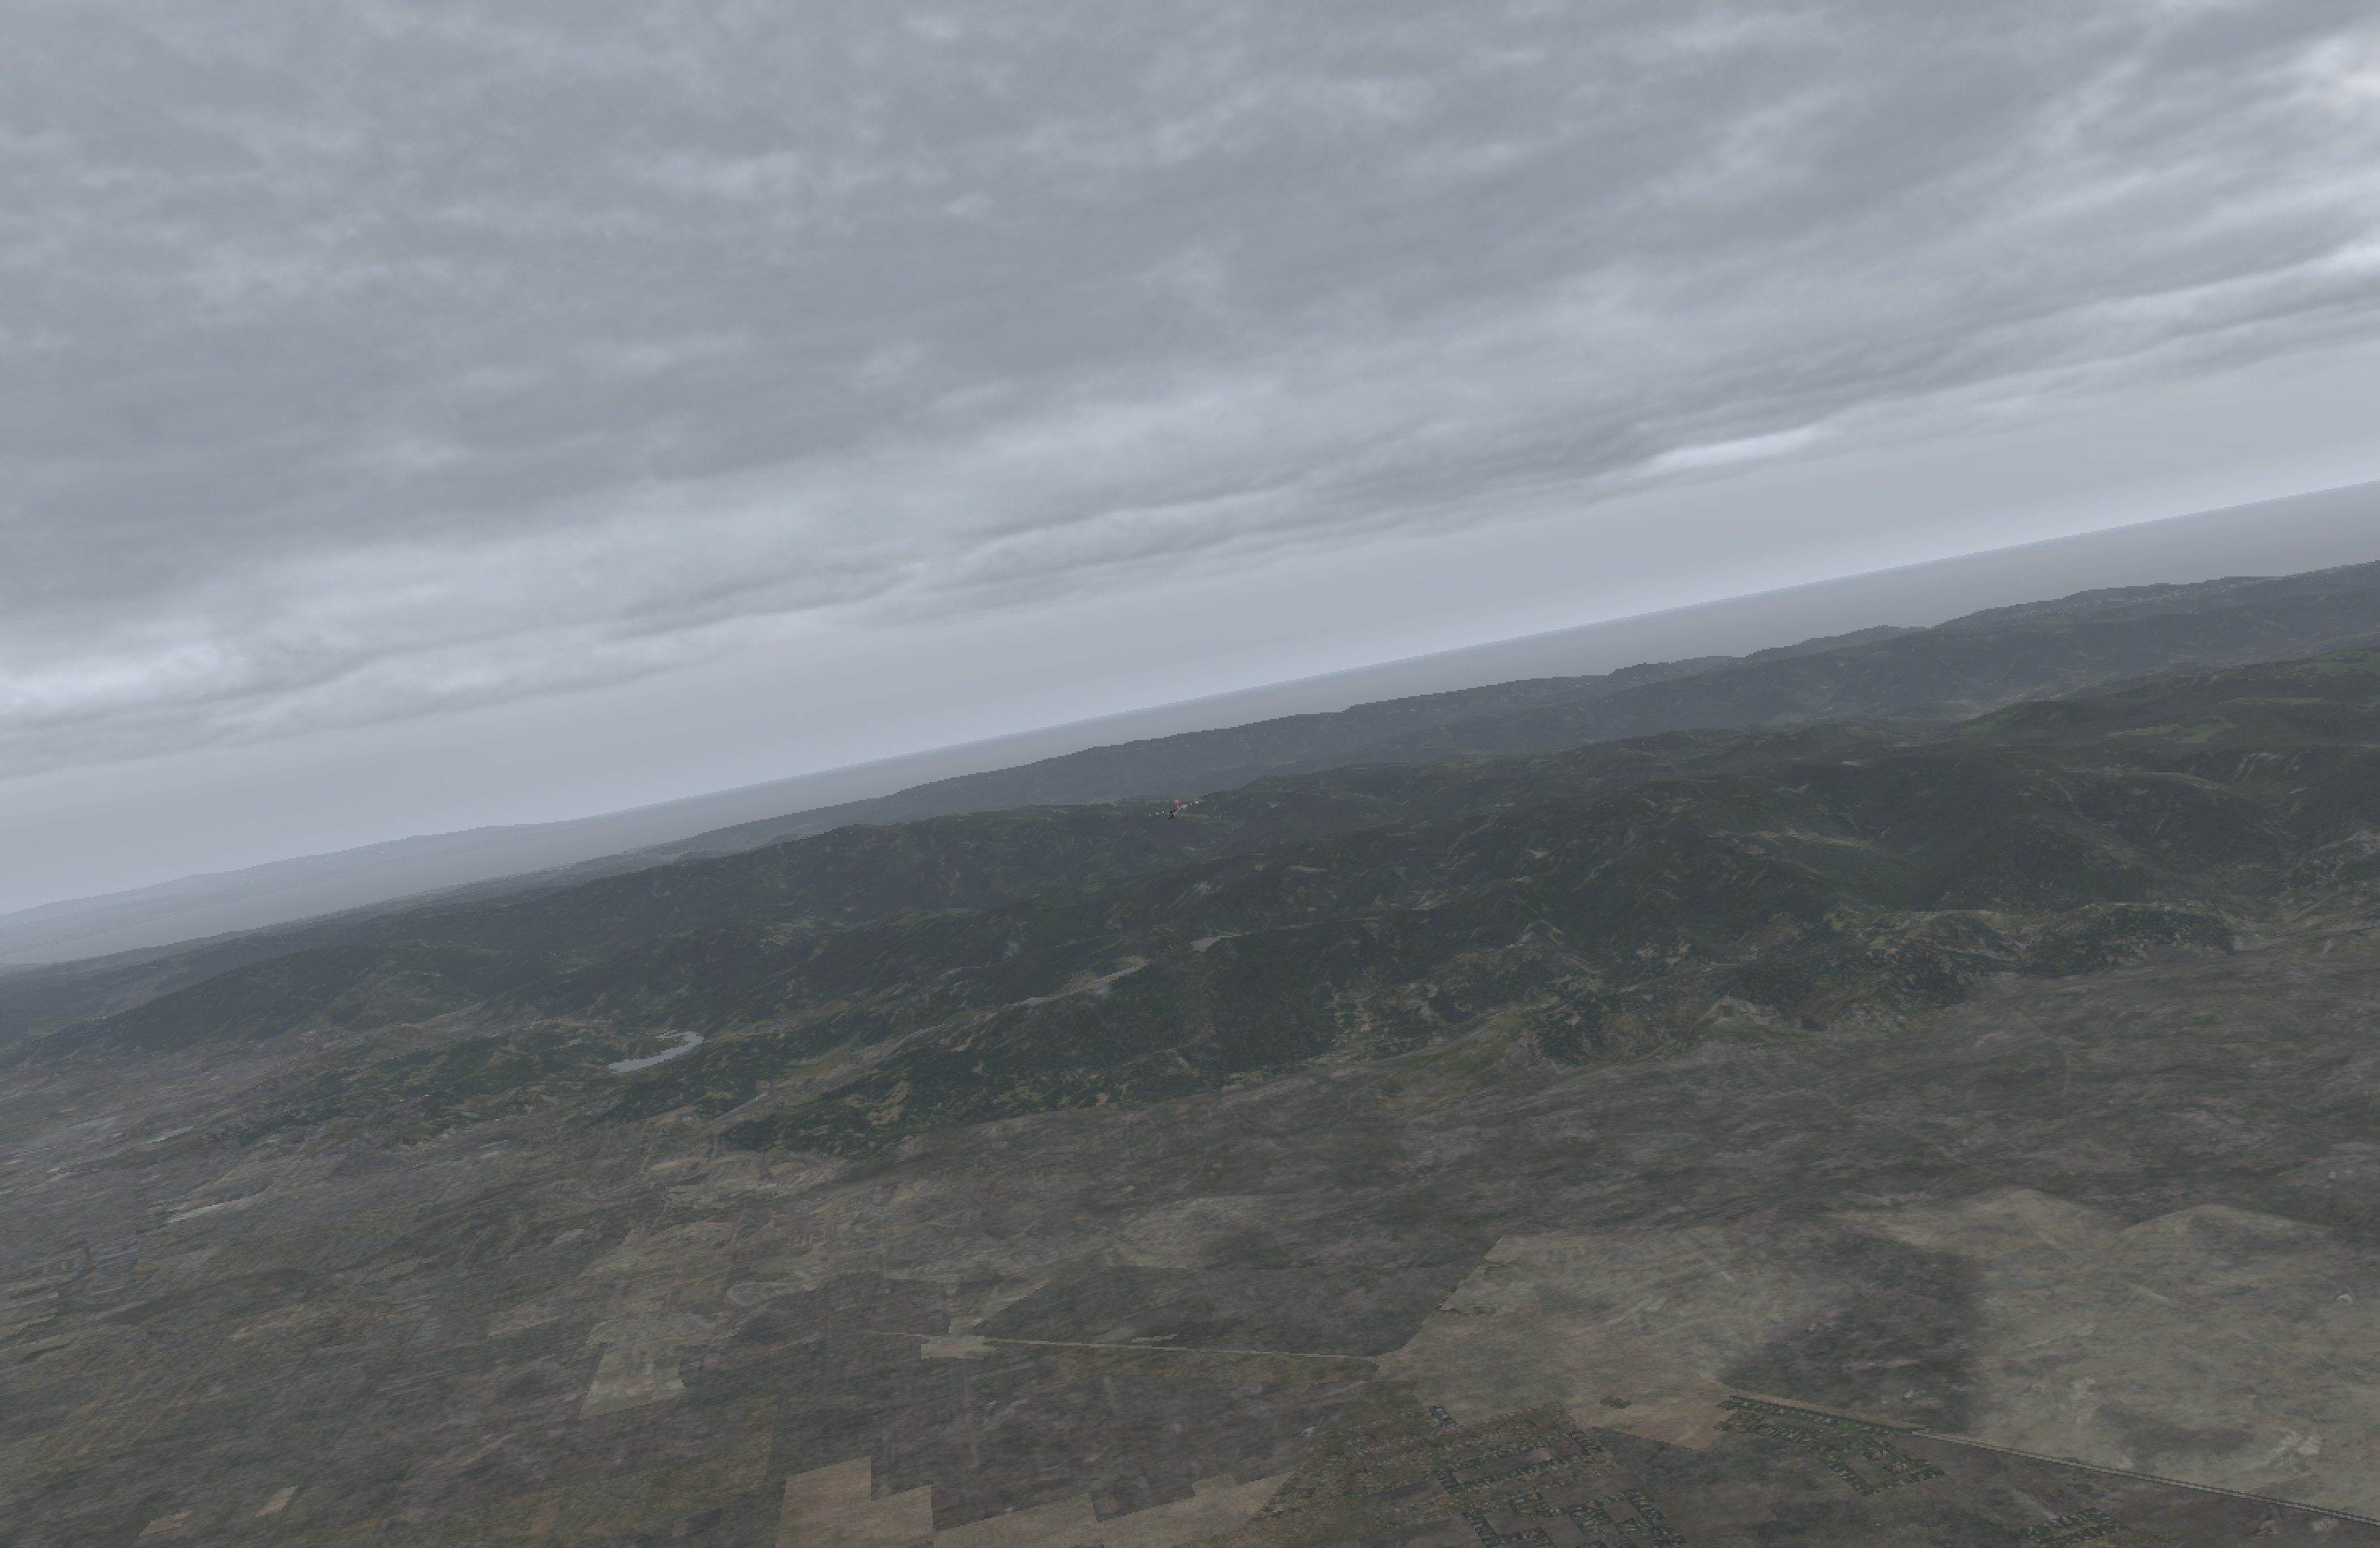aircraft: (1154, 805, 1192, 819)
